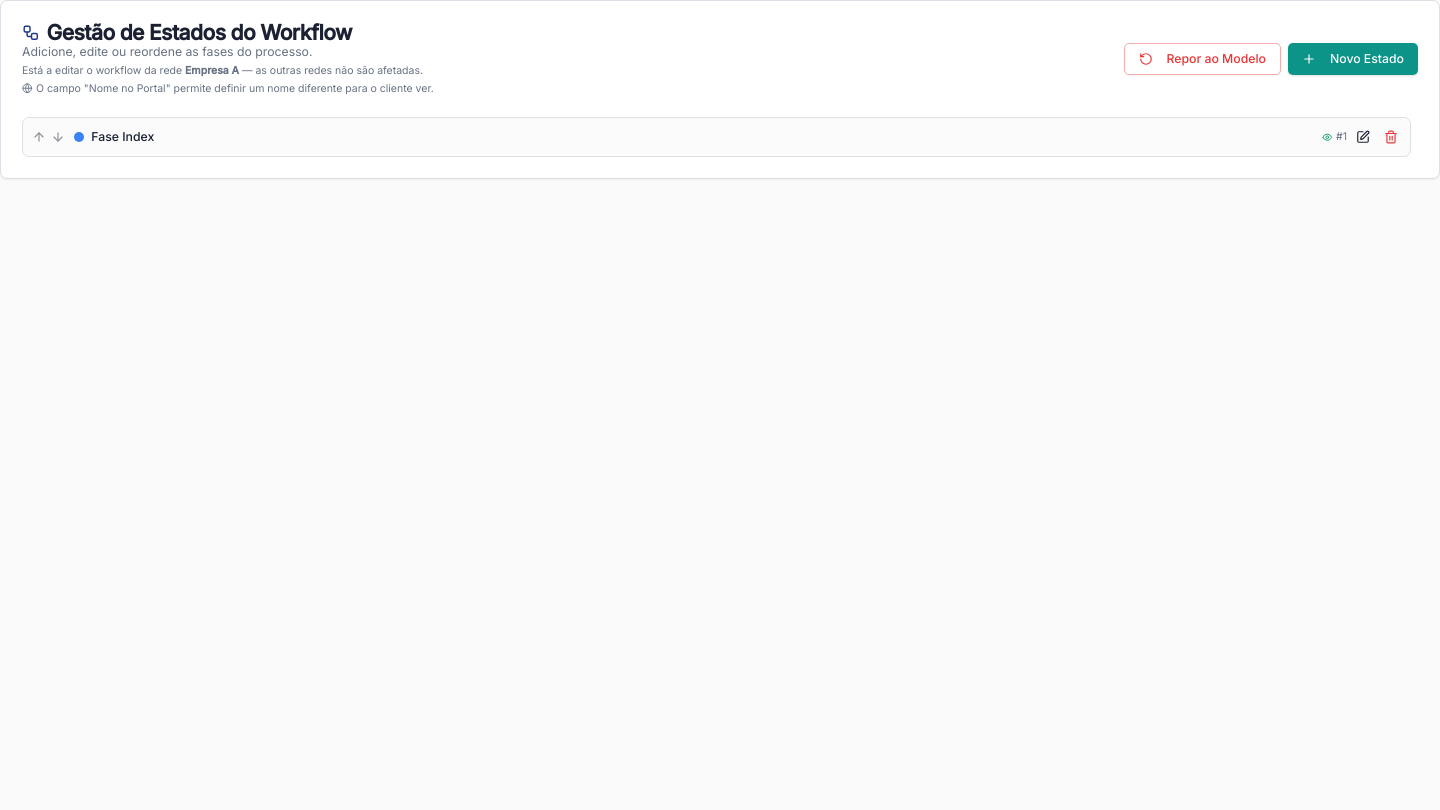
Test: WorkflowEditor — Repor ao Modelo › com password errada não recarrega nem avisa de sucesso
Step 1. Click the button with test id "repor-workflow-modelo-btn" → point(1202, 59), box [1124,43,1281,74]
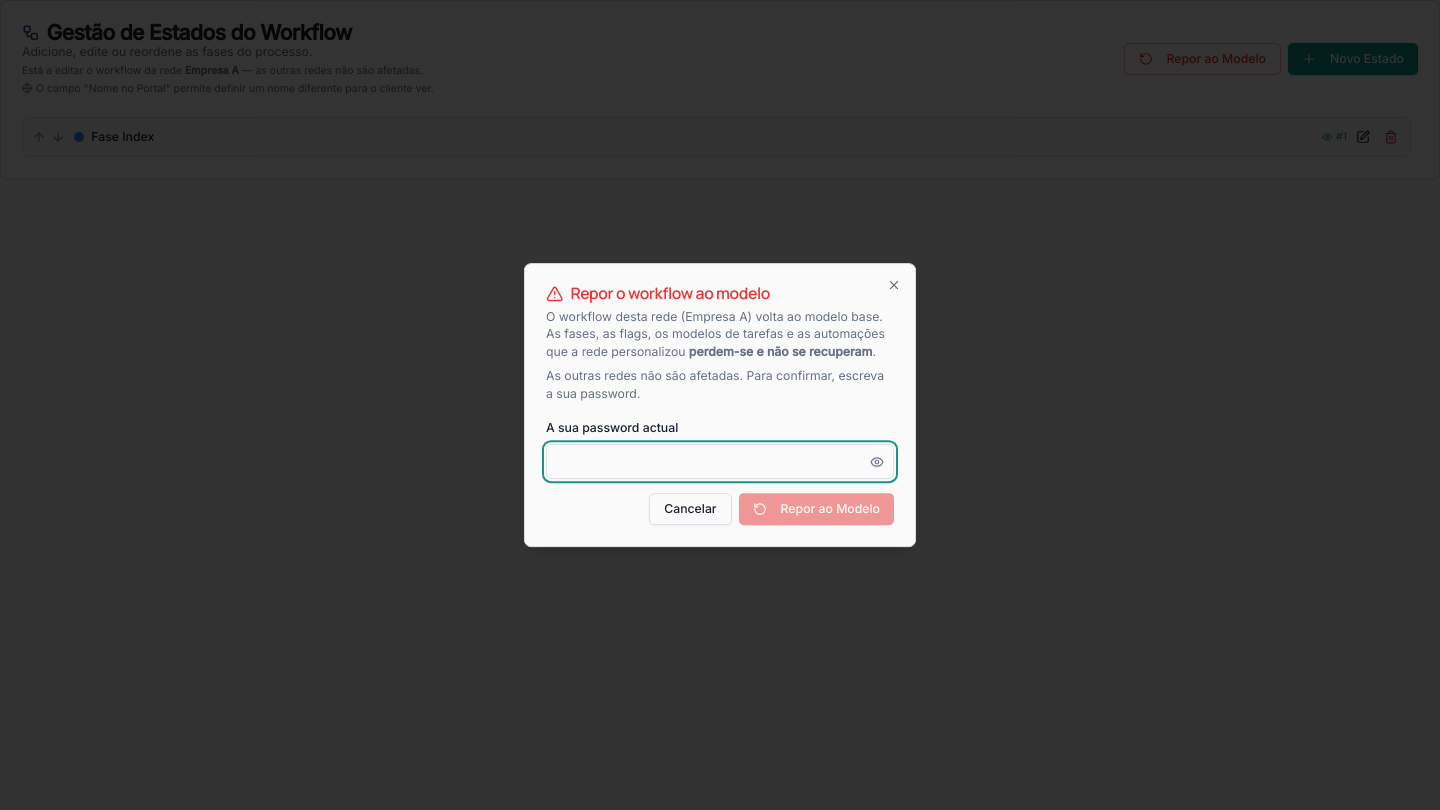
Step 2. Type "errada" into the password field labelled "A sua password actual" → point(720, 462), box [546,444,894,479]
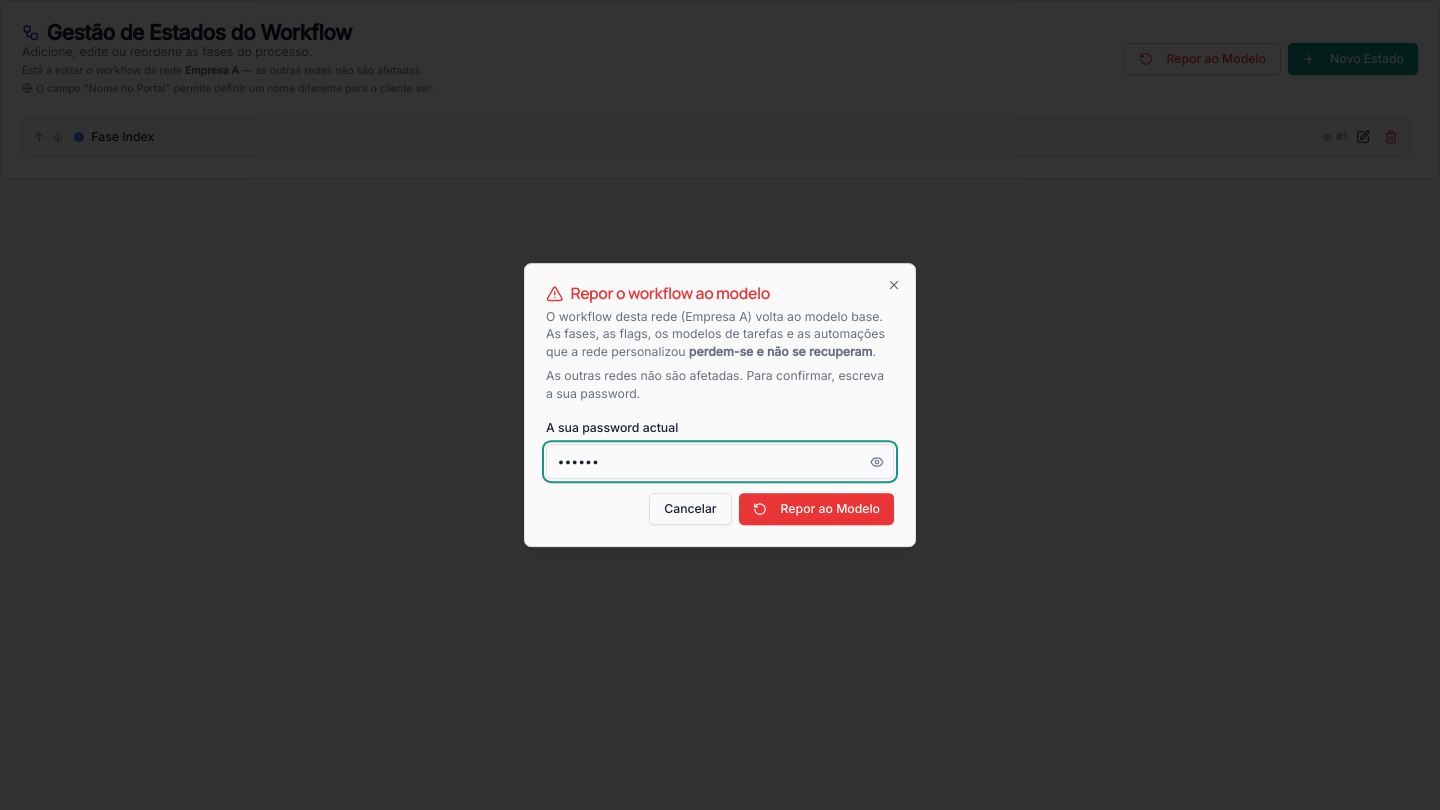
Step 3. Click the button with test id "repor-modelo-confirmar" → point(816, 509), box [739,493,894,525]
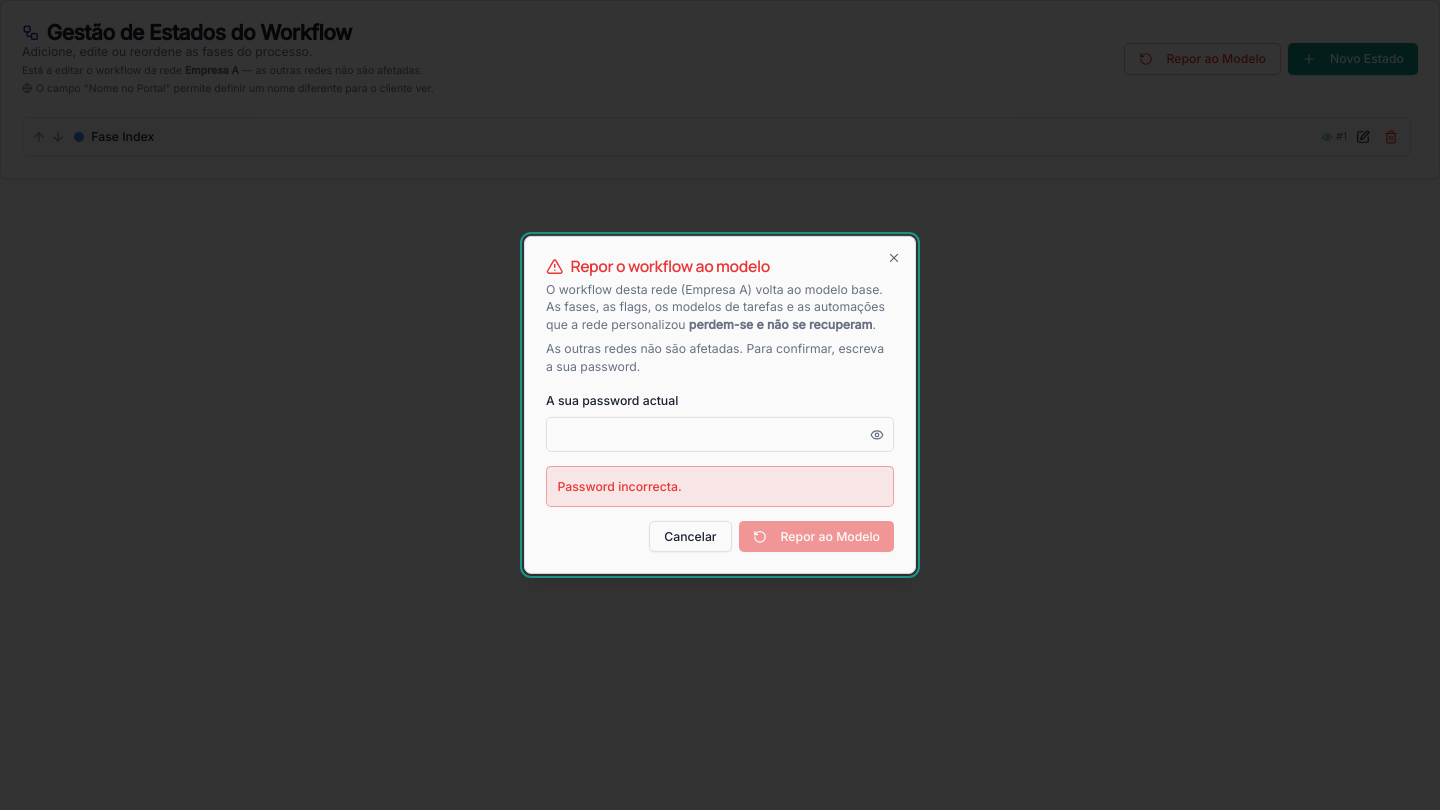
Now the message with test id "repor-modelo-erro" reads "Password incorrecta.", box [558,479,682,494]
